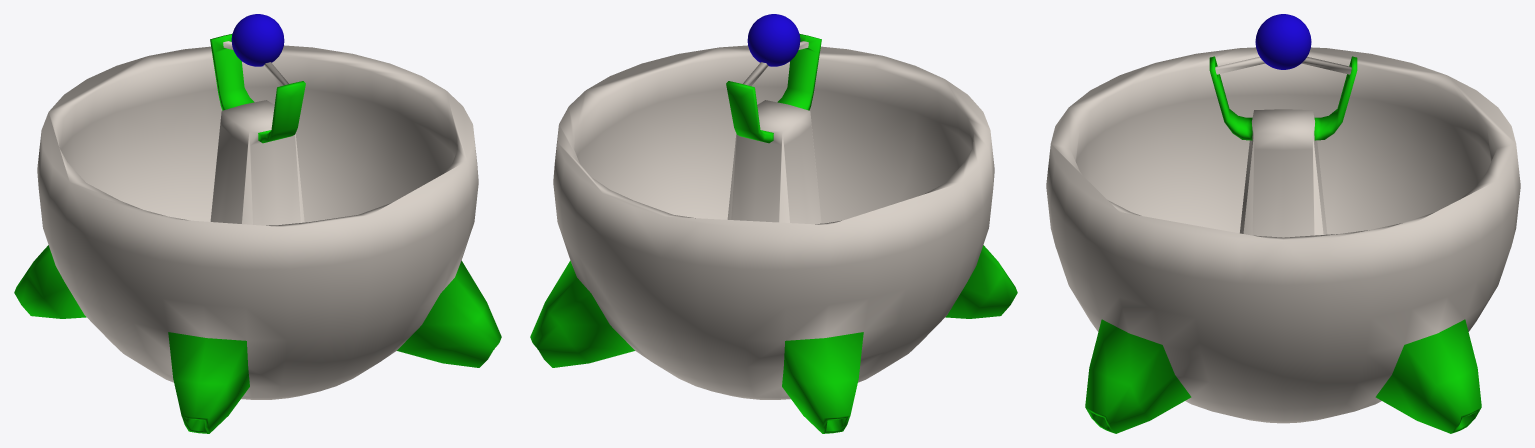
Rendered from ShieldGenerator_01.fbx.
3 views of the same model, side by side, from view 1: azimuth 30°, elevation 25°; view 2: azimuth 150°, elevation 25°; view 3: azimuth 270°, elevation 25° (orthographic). The views are drawn at different scales.
Parts seen in each view (by area): view 1: Sphere; view 2: Sphere; view 3: Sphere.
Part boxes in pixels (<box>): Sphere: <box>14,14,501,433</box>; Sphere: <box>530,14,1017,433</box>; Sphere: <box>1046,14,1520,433</box>.
Size of the model in its own units: 1.15 by 1.03 by 1.13.
